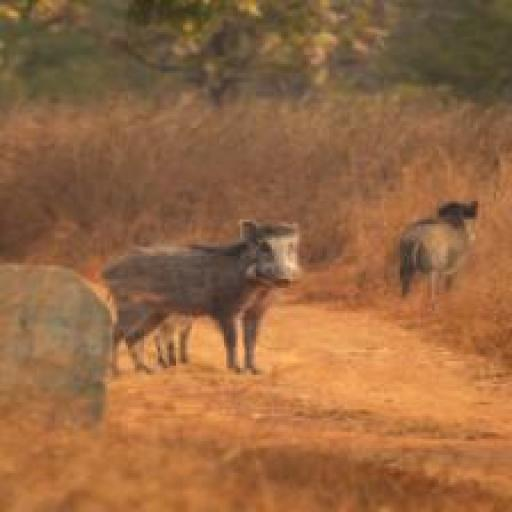Pig: (98, 215, 324, 377)
